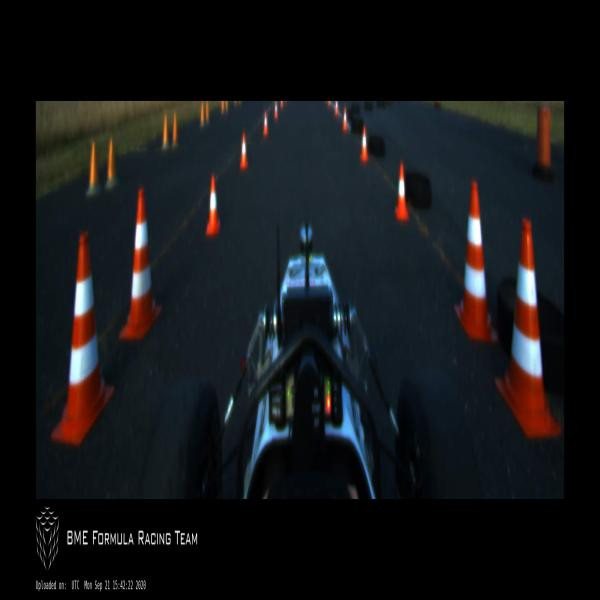large_orange_cone: (496, 220, 560, 441), (51, 232, 113, 447), (454, 180, 497, 342), (118, 190, 160, 340)
orange_cone: (206, 175, 220, 237), (395, 165, 409, 222), (360, 127, 369, 161), (240, 133, 248, 170), (263, 110, 268, 137), (342, 106, 347, 132), (274, 101, 278, 118), (334, 101, 338, 115)
unknown_cone: (86, 141, 102, 195), (105, 138, 120, 189), (171, 113, 179, 147), (162, 114, 169, 150), (200, 101, 205, 125), (205, 101, 209, 124)
